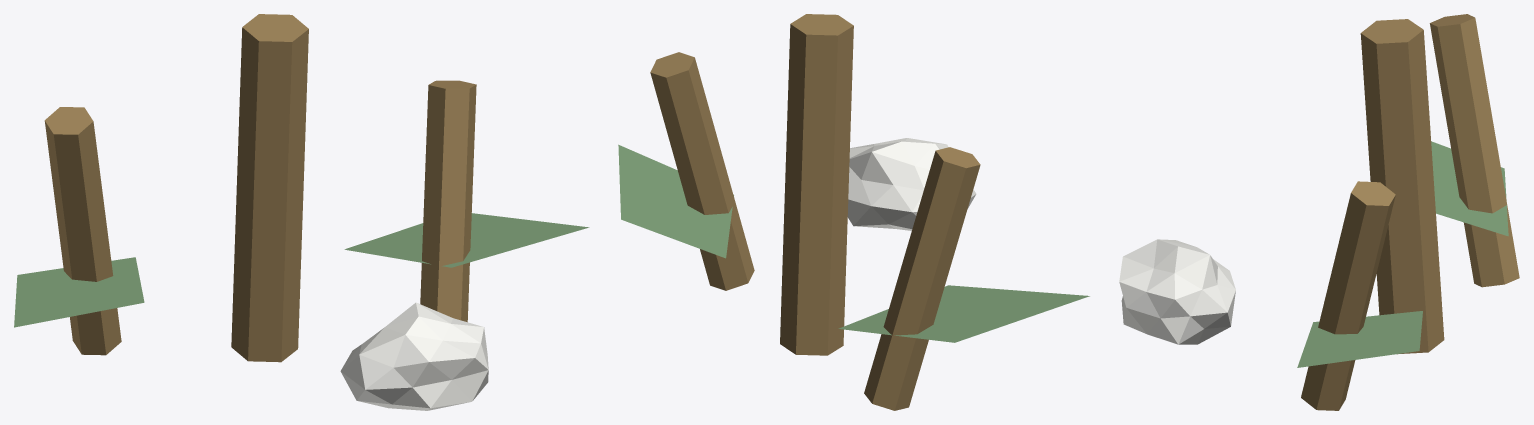
Rendered from t8_fiber_depleted.glb.
3 views of the same model, side by side, from view 1: azimuth 30°, elevation 25°; view 2: azimuth 150°, elevation 25°; view 3: azimuth 270°, elevation 25° (orthographic). The views are drawn at different scales.
Parts seen in each view (by area): view 1: CutCenterStem, DroppedCottonTuft, CutRightStem, CutLeftStem, WiltedLeafLeft, WiltedLeafRight; view 2: CutCenterStem, CutLeftStem, CutRightStem, DroppedCottonTuft, WiltedLeafRight, WiltedLeafLeft; view 3: CutCenterStem, CutLeftStem, DroppedCottonTuft, CutRightStem, WiltedLeafRight, WiltedLeafLeft.
Boxes of the visible parts, x1=… form: CutCenterStem: x1=231, y1=14, x2=308, y2=362; DroppedCottonTuft: x1=340, y1=302, x2=488, y2=410; CutRightStem: x1=420, y1=80, x2=476, y2=322; CutLeftStem: x1=44, y1=107, x2=121, y2=355; WiltedLeafLeft: x1=14, y1=257, x2=144, y2=327; WiltedLeafRight: x1=344, y1=213, x2=589, y2=267; CutCenterStem: x1=780, y1=14, x2=853, y2=355; CutLeftStem: x1=864, y1=147, x2=980, y2=410; CutRightStem: x1=650, y1=52, x2=754, y2=290; DroppedCottonTuft: x1=847, y1=138, x2=976, y2=230; WiltedLeafRight: x1=618, y1=144, x2=733, y2=258; WiltedLeafLeft: x1=838, y1=285, x2=1089, y2=342; CutCenterStem: x1=1360, y1=19, x2=1444, y2=354; CutLeftStem: x1=1429, y1=14, x2=1519, y2=287; DroppedCottonTuft: x1=1119, y1=239, x2=1235, y2=344; CutRightStem: x1=1301, y1=181, x2=1395, y2=410; WiltedLeafRight: x1=1297, y1=311, x2=1422, y2=367; WiltedLeafLeft: x1=1431, y1=141, x2=1508, y2=236.
Bounding box in the file's own units: 0.6481 × 0.3837 × 0.4436.
